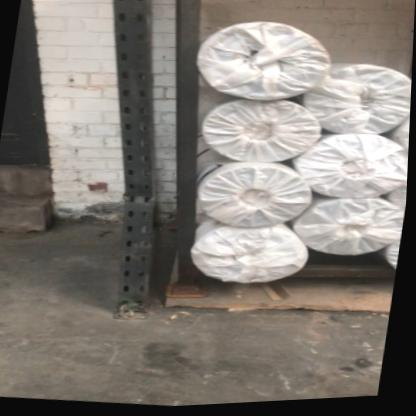vertical_damage: (108, 157, 171, 231)
